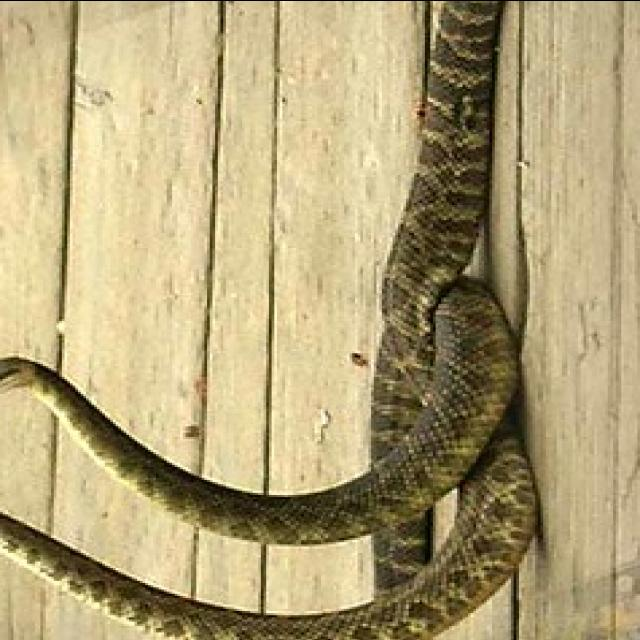snake: (0, 169, 468, 632)
